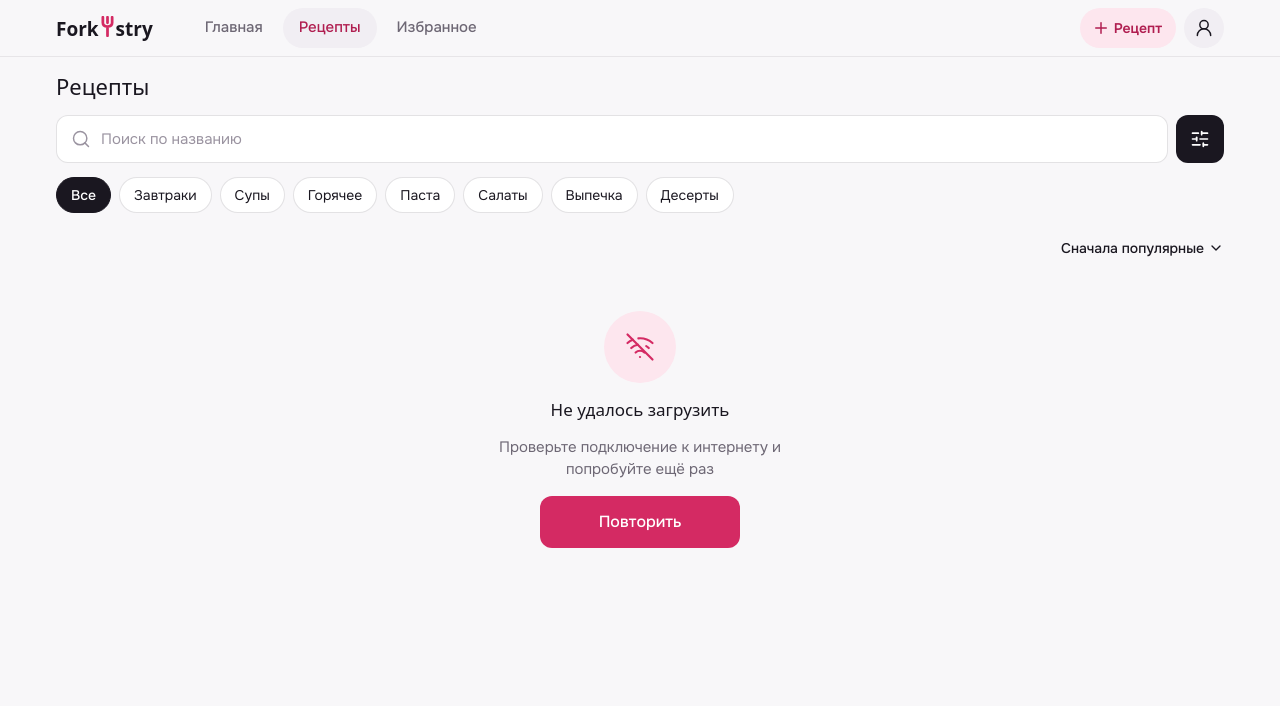
каталог: загрузка, успех, пусто, ошибка › ошибка сети — сообщение и повтор загрузки
Check: the heading "Не удалось загрузить" is shown, box [551,398,729,420]
Click the button "Повторить": (640, 522) [540,496,740,548]
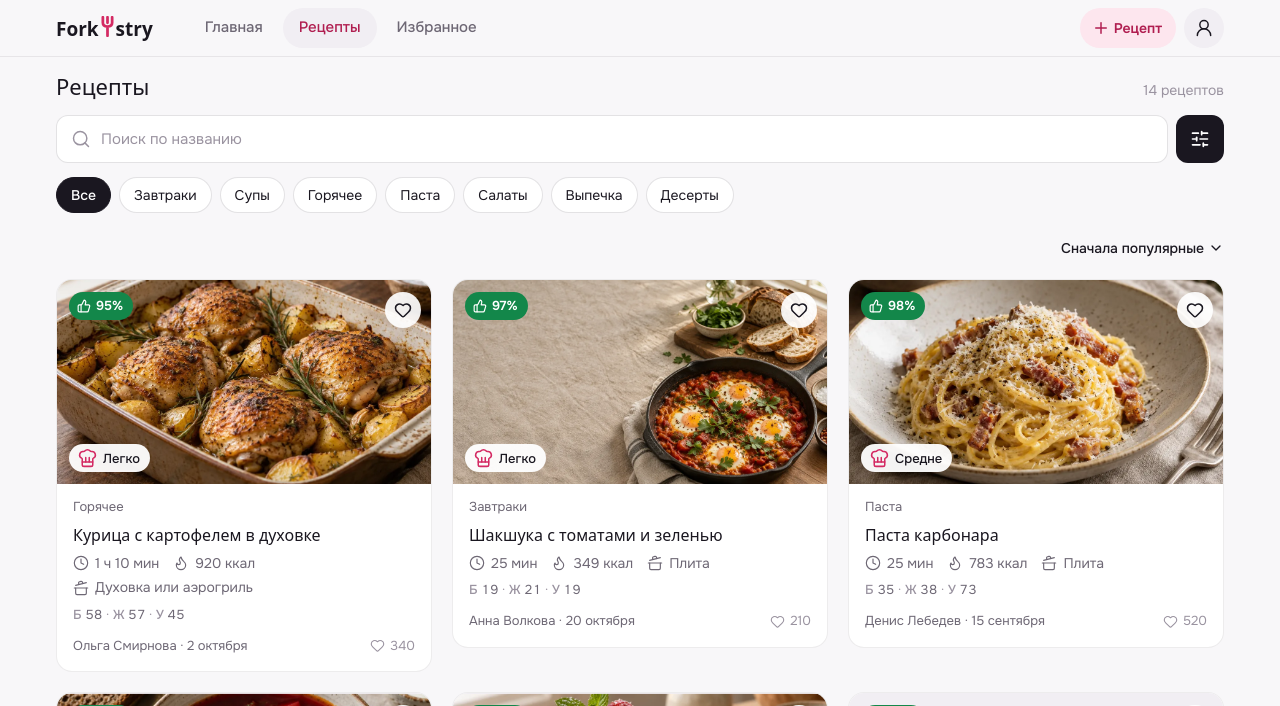
Check: the text "14 рецептов" is shown, box [1143,80,1224,100]
